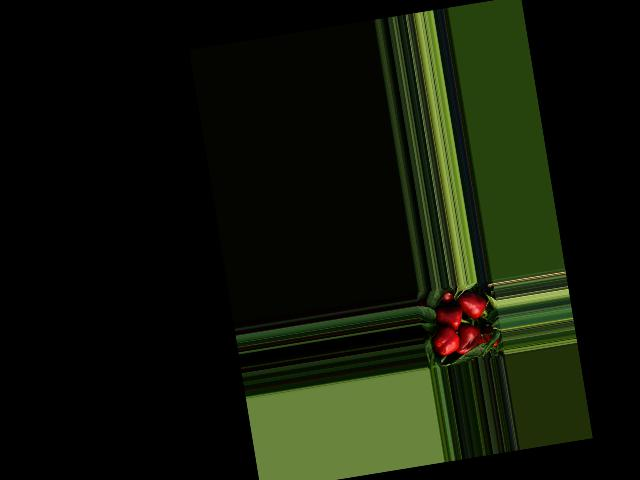bell_pepper: (430, 318, 462, 359)
